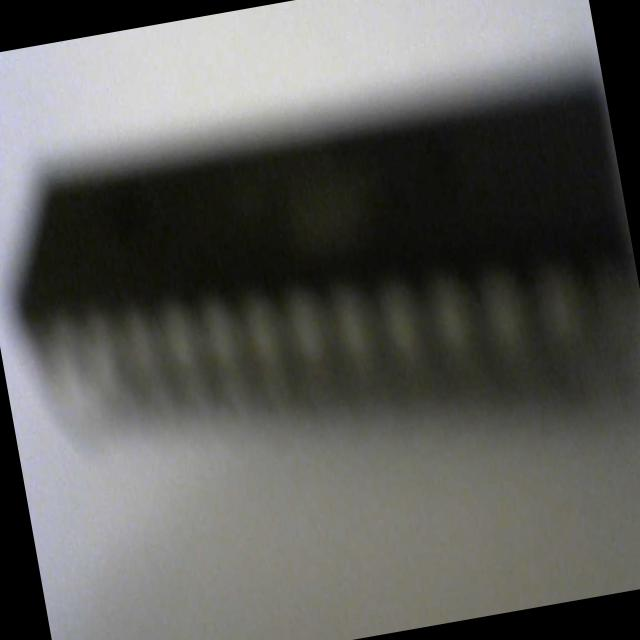atmega: (0, 50, 640, 512)
